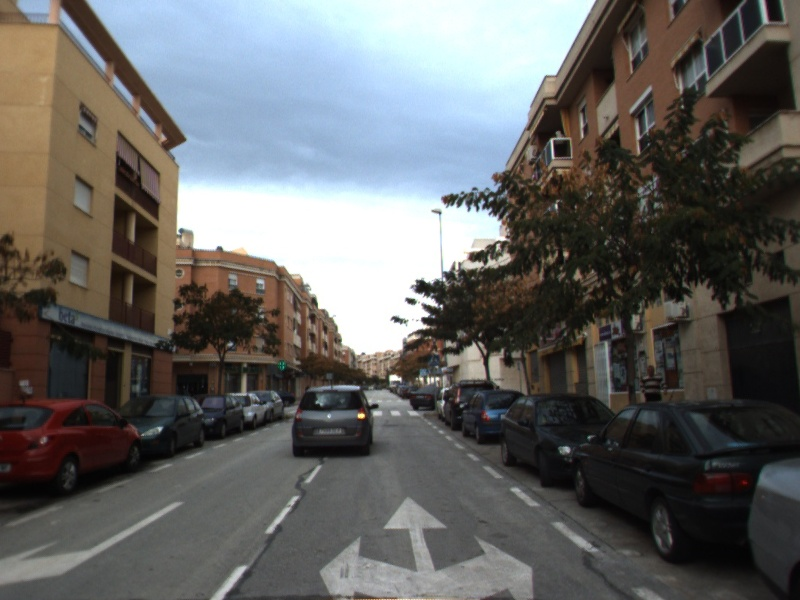STRAIGHT_LEFT_RIGHT: (317, 491, 536, 600)
